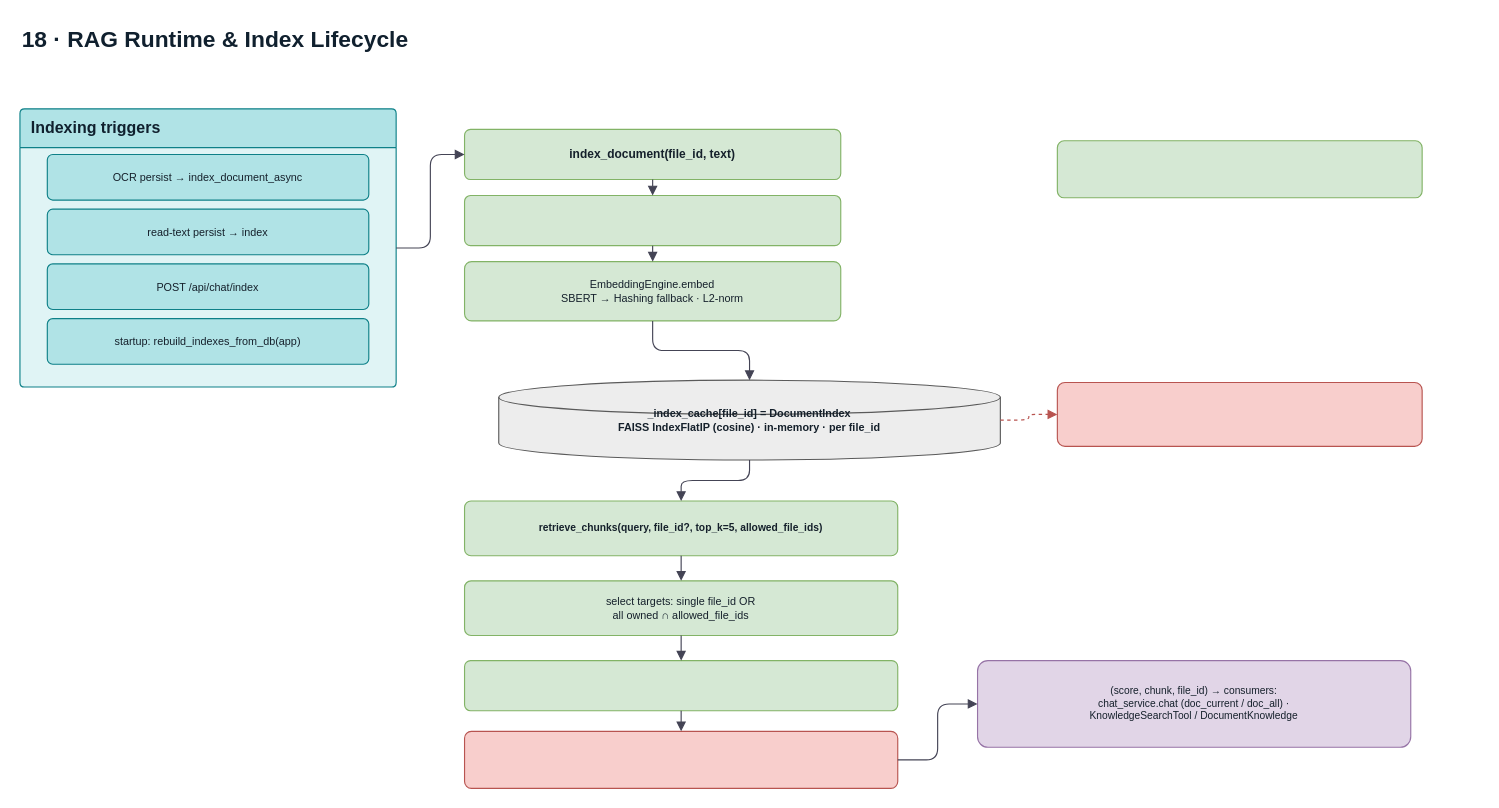
The diagram is 1499 pixels wide and 808 high, and some of its shapes have lost their labels. The centre of each missing label's shape, as x and y in pixels:
"chunk_text (size=400 · overlap=80 · drop ≤20)" belongs at point (652, 220).
"in-memory — lost on restart → rebuilt from DB artifacts (B4)" belongs at point (1239, 413).
"is_indexed(file_id) · remove_document(file_id)" belongs at point (1239, 169).
"per-index search · FAISS IndexFlatIP" belongs at point (680, 685).
"union + sort by score + top_k NO threshold · NO reranker" belongs at point (680, 759).
